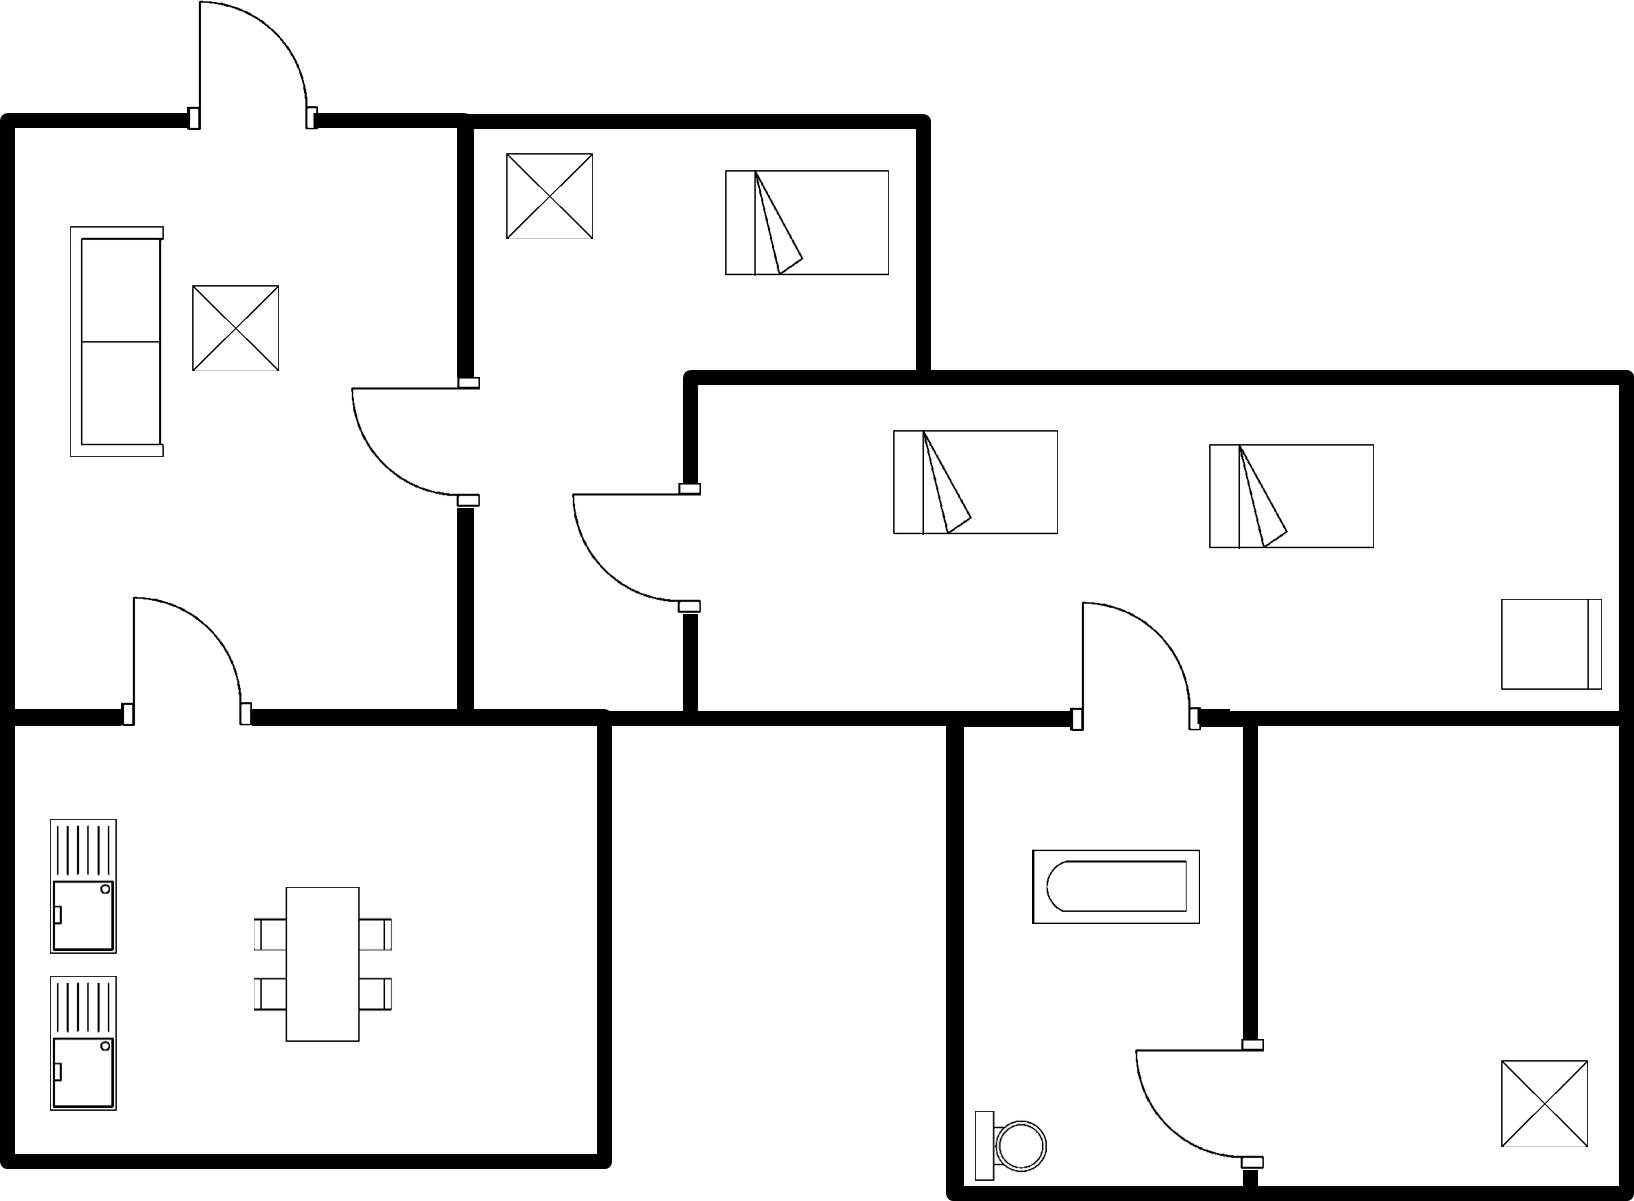bed: (716, 157, 903, 288), (1196, 432, 1385, 560), (880, 421, 1069, 545)
coffee_table: (1492, 1053, 1599, 1155), (499, 146, 601, 251), (183, 278, 286, 380)
dining_table: (244, 878, 401, 1051)
large_sink: (970, 1101, 1050, 1186)
large_sofa: (57, 219, 172, 467)
sink: (39, 811, 130, 964), (43, 966, 127, 1122)
small_sofa: (1491, 589, 1609, 698)
tub: (1021, 840, 1207, 934)
